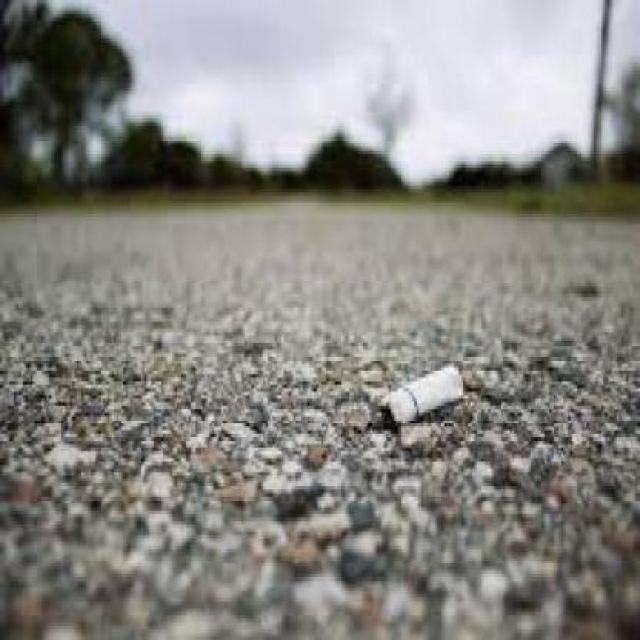cigarette: (370, 332, 478, 423)
